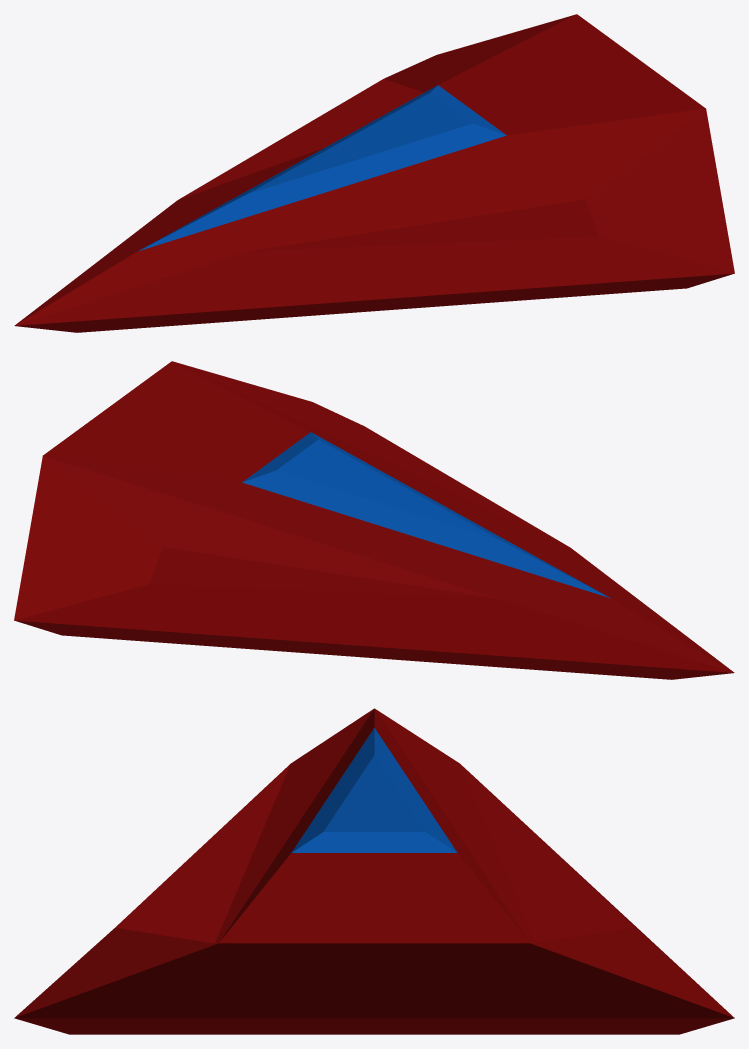
Rendered from Ship.FBX.
3 renders of one model, top to bottom at view 1: azimuth 30°, elevation 25°; view 2: azimuth 150°, elevation 25°; view 3: azimuth 270°, elevation 25°, orthographic. The views are drawn at different scales.
Parts seen in each view (by area): view 1: Box001; view 2: Box001; view 3: Box001.
Boxes of the visible parts, <box> form: Box001: <box>14,14,734,332</box>; Box001: <box>14,361,734,679</box>; Box001: <box>14,708,734,1034</box>.
Size of the model in its own units: 131 by 26.6 by 108.
